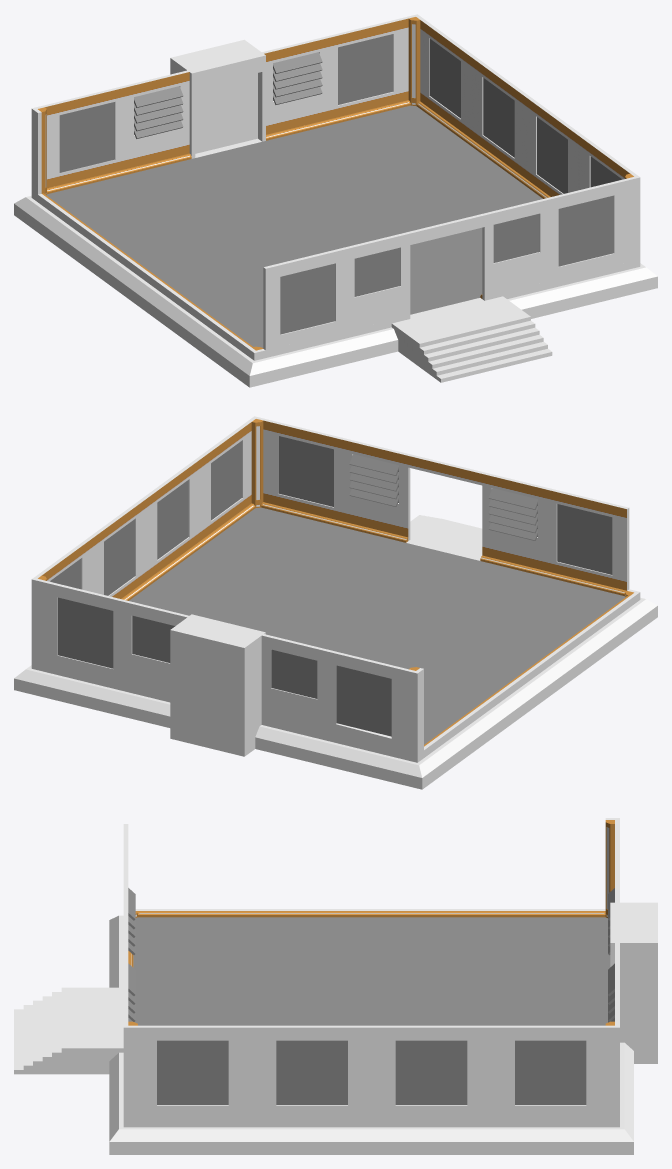
Rendered from ShopX2.FBX.
The picture shows the model from 3 angles, top to bottom: view 1: azimuth 30°, elevation 25°; view 2: azimuth 150°, elevation 25°; view 3: azimuth 270°, elevation 25°; orthographic projection. The views are drawn at different scales.
Visible parts, largest first — view 1: WallGround, WallFront, WallRight, Steps, Elevator, WallBackLeft, WallBackRight, WindowFrontRight1, WindowBackRight1, WindowFrontLeft1, WindowBackLeft1, WindowBackRight2 (+9 smaller); view 2: WallGround, WallFront, Elevator, WallRight, WallBackLeft, WallBackRight, WindowBackRight1, WindowBackLeft1, WindowFrontRight1, WindowFrontLeft1, WindowFrontRight2, WindowFrontLeft2 (+9 smaller); view 3: WallGround, WallRight, Steps, Elevator, WindowRight2, WindowRight3, WindowRight4, WindowRight1, ColumnFR, ColumnBR, WallFront, ColumnBL (+1 smaller).
Part boxes in pixels (box(x1,y1,x2,y2)): WallGround: box(14, 100, 657, 387); WallFront: box(263, 178, 629, 350); WallRight: box(420, 19, 633, 196); Steps: box(391, 296, 552, 382); Elevator: box(170, 39, 265, 158); WallBackLeft: box(43, 70, 189, 188); WallBackRight: box(262, 17, 408, 134); WindowFrontRight1: box(558, 195, 613, 266); WindowBackRight1: box(338, 34, 393, 104); WindowFrontLeft1: box(280, 263, 335, 334); WindowBackLeft1: box(59, 102, 114, 172); WindowBackRight2: box(273, 52, 322, 104); WallGround: box(14, 502, 657, 789); WallFront: box(263, 419, 629, 590); Elevator: box(170, 614, 265, 756); WallRight: box(38, 421, 251, 598); WallBackLeft: box(261, 634, 407, 752); WallBackRight: box(42, 580, 189, 694); WindowBackRight1: box(58, 597, 113, 668); WindowBackLeft1: box(336, 665, 391, 736); WindowFrontRight1: box(278, 436, 333, 506); WindowFrontLeft1: box(557, 504, 612, 574); WindowFrontRight2: box(349, 454, 398, 506); WindowFrontLeft2: box(488, 488, 537, 540); WallGround: box(109, 909, 633, 1154); WallRight: box(138, 1025, 605, 1118); Steps: box(14, 987, 123, 1074); Elevator: box(610, 902, 657, 1063); WindowRight2: box(395, 1040, 467, 1104); WindowRight3: box(276, 1040, 347, 1104); WindowRight4: box(157, 1040, 228, 1104); WindowRight1: box(515, 1040, 586, 1104); ColumnFR: box(123, 1021, 137, 1118); ColumnBR: box(605, 1021, 619, 1118); WallFront: box(123, 824, 128, 1021); ColumnBL: box(605, 818, 619, 913).
Bounding box in the file's own units: 2.79 × 0.7112 × 3.43.
